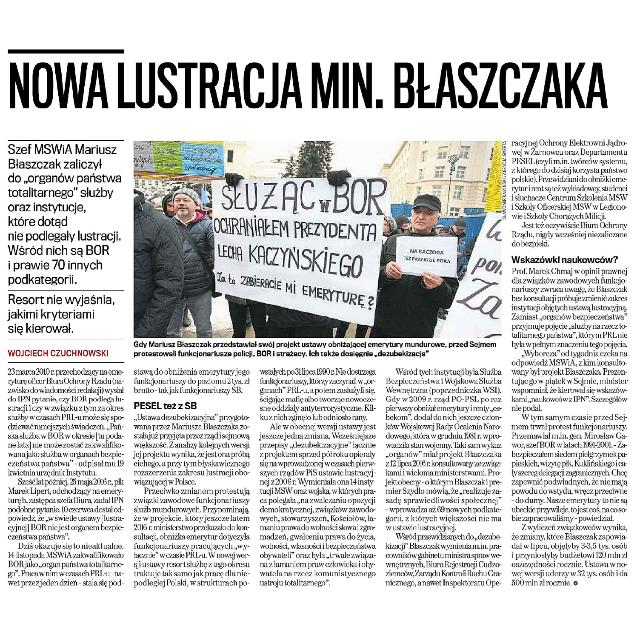author: (5, 348, 116, 360)
body: (511, 136, 633, 590), (5, 366, 129, 590), (132, 364, 254, 590), (384, 365, 504, 591), (258, 366, 379, 590)
caption: (131, 338, 499, 360)
image: (130, 137, 508, 339)
lead: (5, 140, 125, 340)
title: (6, 58, 612, 114)
